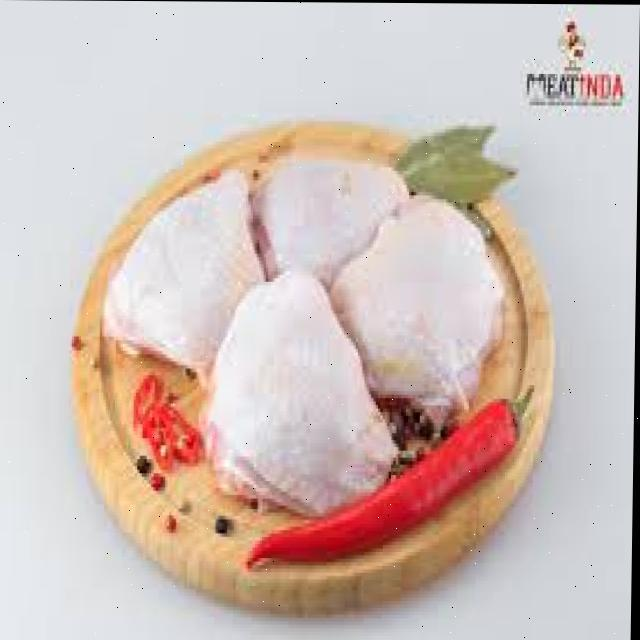thigh: (191, 282, 390, 520), (92, 165, 286, 382), (340, 200, 518, 422), (264, 131, 418, 311)
